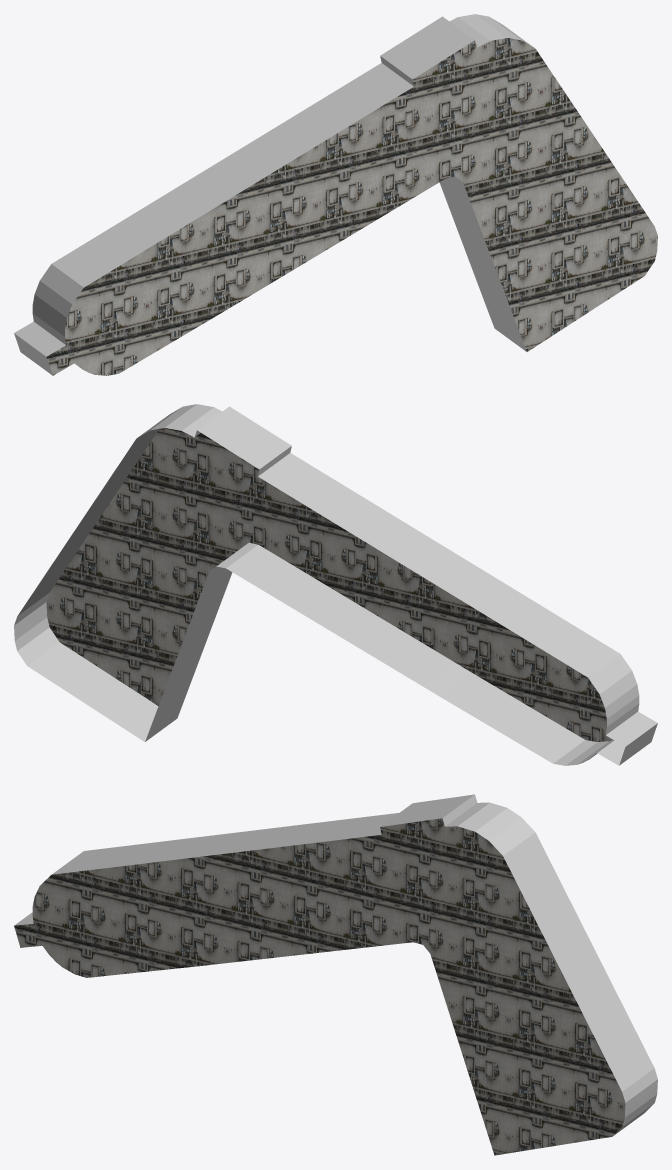
File: geospecific_360.obj
3 views of the same model, one above another, from view 1: azimuth 30°, elevation 25°; view 2: azimuth 150°, elevation 25°; view 3: azimuth 330°, elevation 25° (orthographic).
Visible parts, largest first — view 1: Building; view 2: Building; view 3: Building.
Boxes of the visible parts, left/top/right/bottom form: Building: left=14, top=14, right=657, bottom=375; Building: left=14, top=404, right=657, bottom=765; Building: left=14, top=794, right=657, bottom=1155.
Size of the model in its own units: 97.78 by 49.62 by 9.
